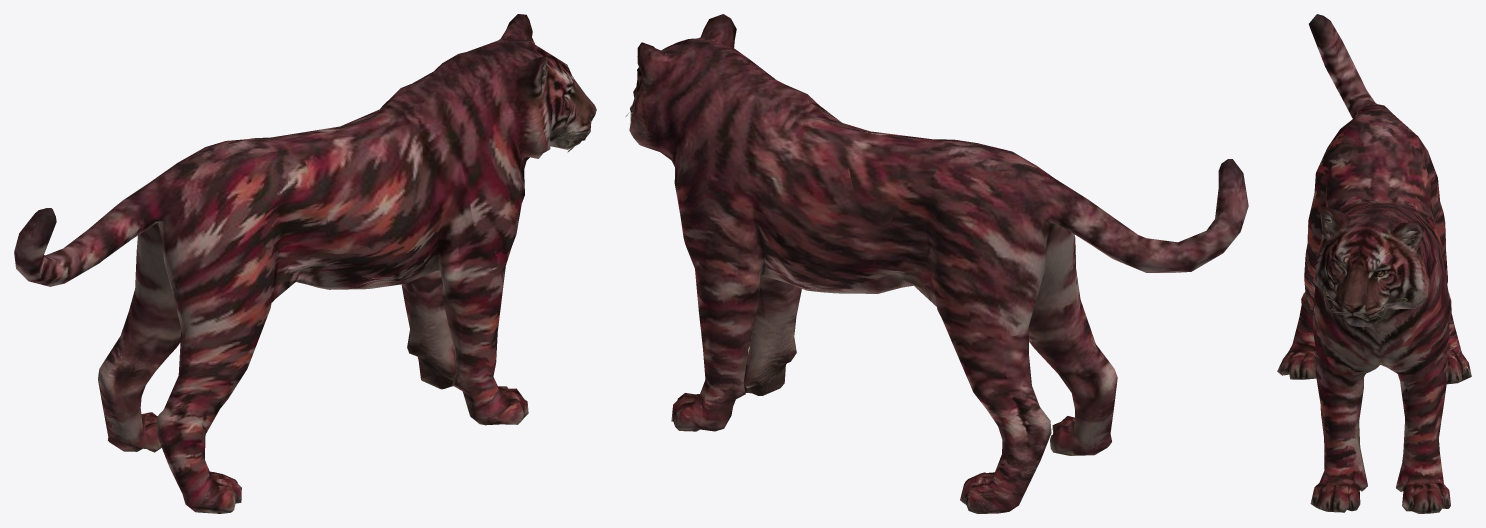
File: SUNSTRETCH-lo.glb
3 renders of one model, left to right at view 1: azimuth 30°, elevation 25°; view 2: azimuth 150°, elevation 25°; view 3: azimuth 270°, elevation 25°, orthographic. The views are drawn at different scales.
Visible parts, largest first — view 1: tripo_node_415fb54e-d76c-4307-90d6-d0485afed45f; view 2: tripo_node_415fb54e-d76c-4307-90d6-d0485afed45f; view 3: tripo_node_415fb54e-d76c-4307-90d6-d0485afed45f.
Part boxes in pixels (x1=…): tripo_node_415fb54e-d76c-4307-90d6-d0485afed45f: x1=14, y1=14, x2=596, y2=513; tripo_node_415fb54e-d76c-4307-90d6-d0485afed45f: x1=626, y1=14, x2=1248, y2=513; tripo_node_415fb54e-d76c-4307-90d6-d0485afed45f: x1=1277, y1=14, x2=1471, y2=513.
Bounding box in the file's own units: 1.72 × 0.9982 × 0.5601.
Materials: 1 (1 with a texture image).
